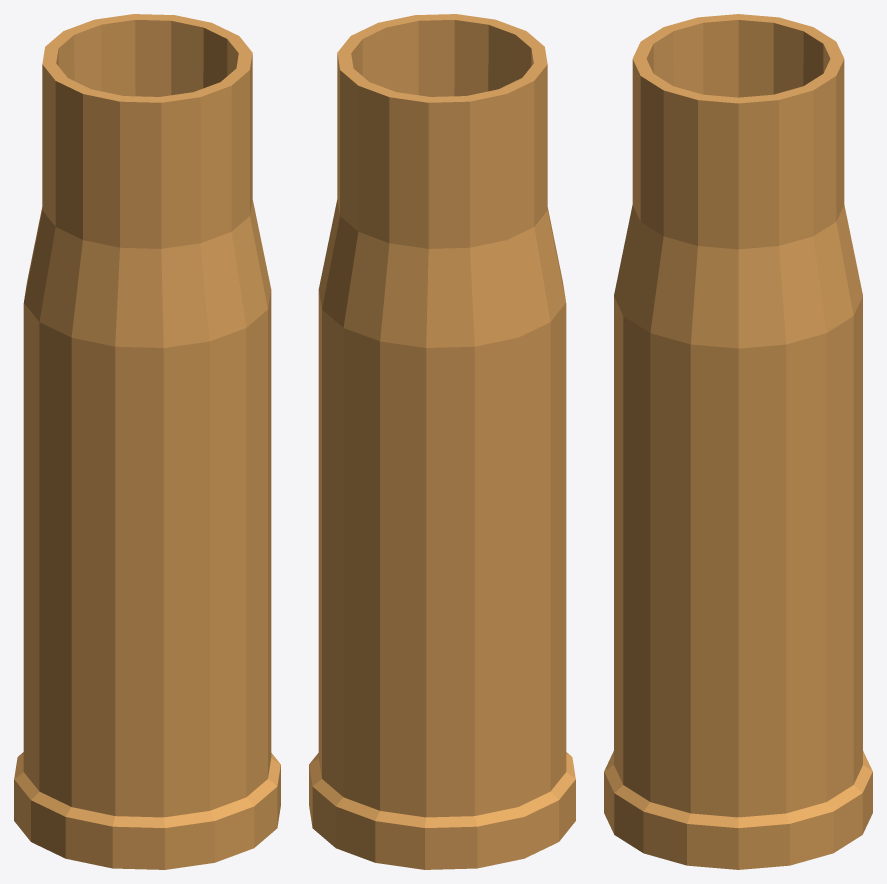
Rendered from 5.7x28mm Shell.fbx.
The picture shows the model from 3 angles, left to right: view 1: azimuth 30°, elevation 25°; view 2: azimuth 150°, elevation 25°; view 3: azimuth 270°, elevation 25°; orthographic projection.
Visible parts, largest first — view 1: Cylinder.011; view 2: Cylinder.011; view 3: Cylinder.011.
Part boxes in pixels (left/top/right/bottom): Cylinder.011: left=14, top=14, right=280, bottom=869; Cylinder.011: left=309, top=14, right=575, bottom=869; Cylinder.011: left=604, top=14, right=872, bottom=869.
Size of the model in its own units: 0.8899 by 2.77 by 0.8899.
